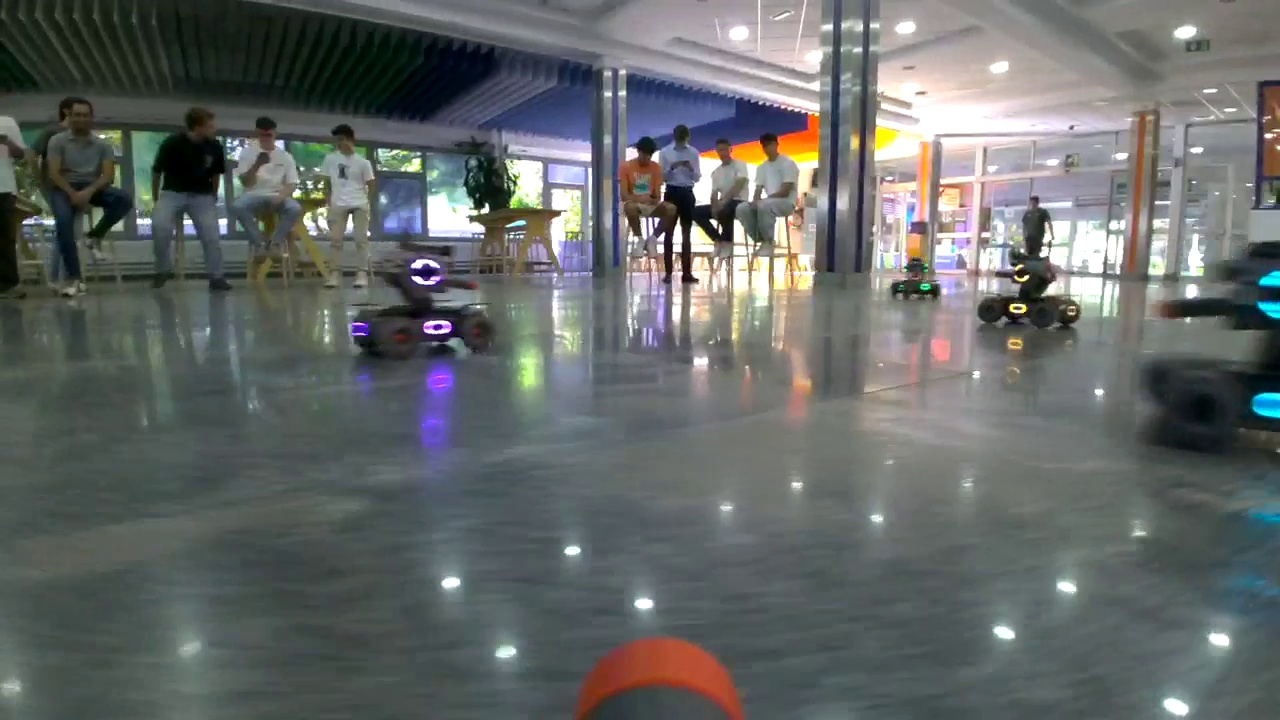robot: (1144, 240, 1280, 465), (352, 254, 492, 354), (976, 250, 1084, 336), (889, 257, 943, 298)
